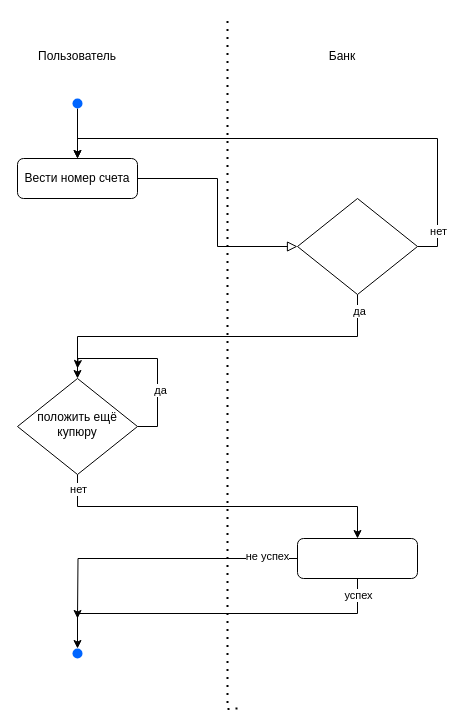
Some shapes in this 464 by 728 pixel diagram are drawn without their labels. Each missing label, with the box of its shape:
Номер счета валиден: (296, 198, 418, 294)
увеличить баланс: (296, 538, 418, 578)
